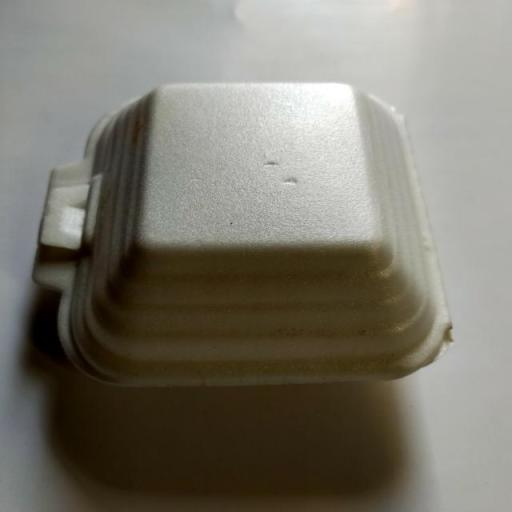styrofoam: (34, 83, 450, 386)
